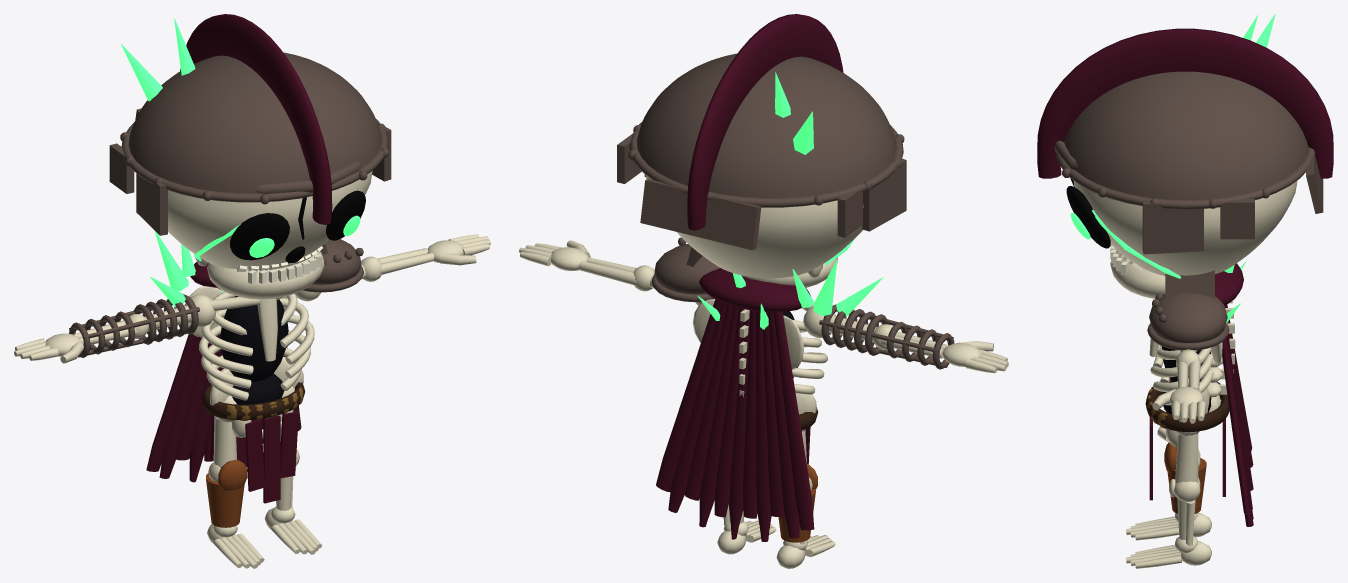
File: enemigo_esqueleto_body.fbx
3 renders of one model, left to right at view 1: azimuth 30°, elevation 25°; view 2: azimuth 150°, elevation 25°; view 3: azimuth 270°, elevation 25°, orthographic. The views are drawn at different scales.
Visible parts, largest first — view 1: Helmet, HelmetCrest, Ribcage, Skull, Cloak, Loincloth, VoidCore, Manica, EyeHoles, Arm_L, Leg_R, CorruptionThorns (+9 smaller); view 2: Helmet, Cloak, HelmetCrest, Skull, Manica, CorruptionThorns, Arm_L, CloakMantle, Ribcage, Galerus, Arm_R, Leg_R (+3 smaller); view 3: Helmet, HelmetCrest, Skull, Galerus, Leg_L, Cloak, Arm_L, Ribcage, Leg_R, Belt, Jaw, EyeHoles (+8 smaller).
Boxes of the visible parts, <box> form: Helmet: <box>109,52,391,235</box>; HelmetCrest: <box>180,14,332,224</box>; Ribcage: <box>184,286,320,400</box>; Skull: <box>168,171,372,269</box>; Cloak: <box>146,287,301,482</box>; Loincloth: <box>210,411,298,503</box>; VoidCore: <box>220,296,288,404</box>; Manica: <box>69,294,199,357</box>; EyeHoles: <box>230,190,365,263</box>; Arm_L: <box>361,234,490,281</box>; Leg_R: <box>207,396,264,568</box>; CorruptionThorns: <box>121,18,223,307</box>; Helmet: <box>617,53,906,250</box>; Cloak: <box>656,299,814,541</box>; HelmetCrest: <box>687,14,843,230</box>; Skull: <box>645,175,863,278</box>; Manica: <box>819,304,954,369</box>; CorruptionThorns: <box>698,72,883,329</box>; Arm_L: <box>519,240,654,291</box>; CloakMantle: <box>699,268,810,312</box>; Ribcage: <box>692,299,835,394</box>; Galerus: <box>651,237,720,302</box>; Arm_R: <box>828,315,1008,373</box>; Leg_R: <box>776,429,835,568</box>; Helmet: <box>1054,71,1323,254</box>; HelmetCrest: <box>1037,28,1333,178</box>; Skull: <box>1073,180,1297,275</box>; Galerus: <box>1147,270,1229,350</box>; Leg_L: <box>1126,431,1211,568</box>; Cloak: <box>1222,304,1253,526</box>; Arm_L: <box>1152,349,1205,423</box>; Ribcage: <box>1149,338,1222,405</box>; Leg_R: <box>1126,446,1211,540</box>; Belt: <box>1145,379,1229,432</box>; Jaw: <box>1110,250,1165,298</box>; EyeHoles: <box>1066,178,1110,248</box>.
Size of the model in its own units: 95 by 99.09 by 51.19.
